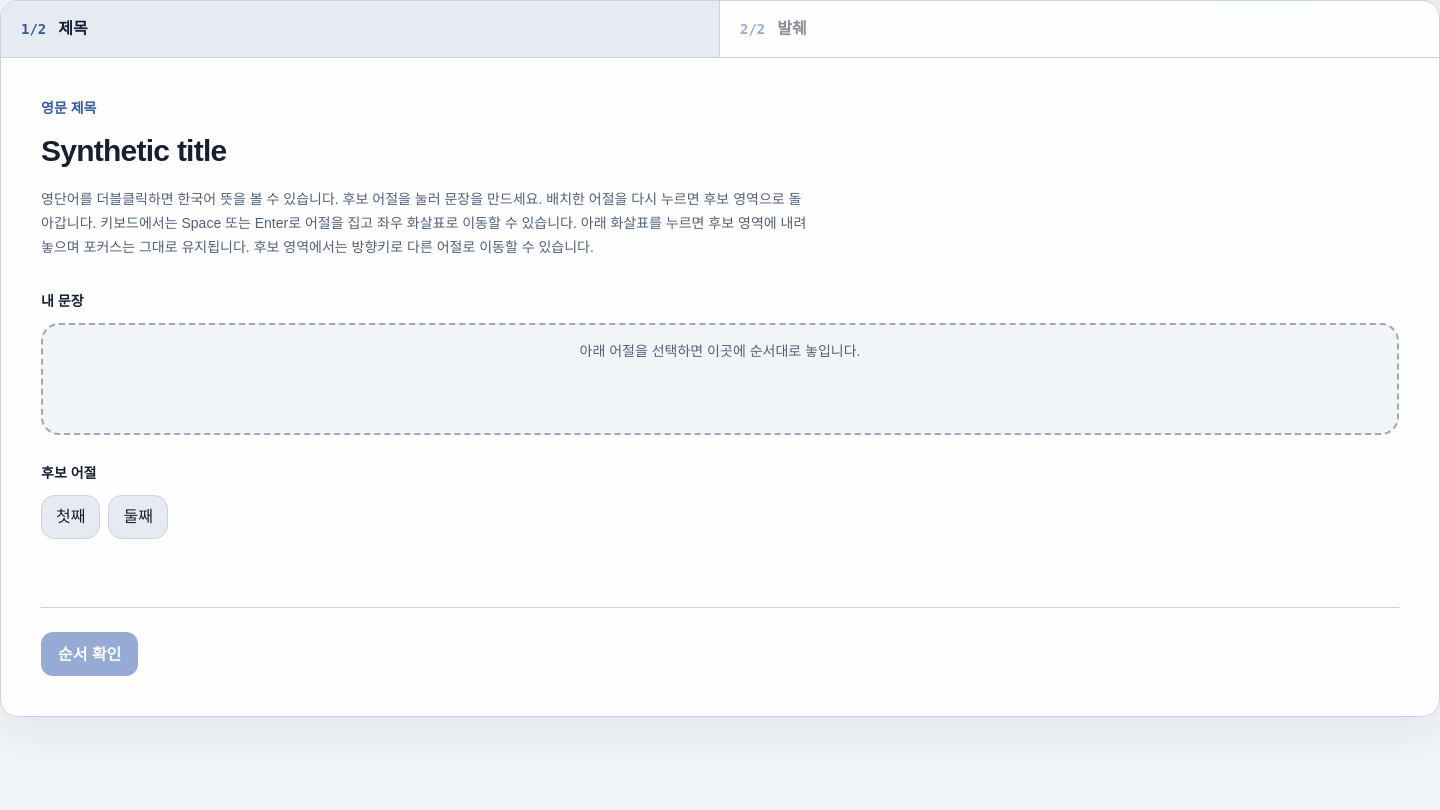
LessonPlayer › supports tap placement, keyboard reordering, and exact submission feedback
The width and height of the screenshot is (1440, 810).
Click the button with aria-label "첫째 어절을 내 문장으로 이동".
click(71, 517)  # box [41, 495, 100, 539]
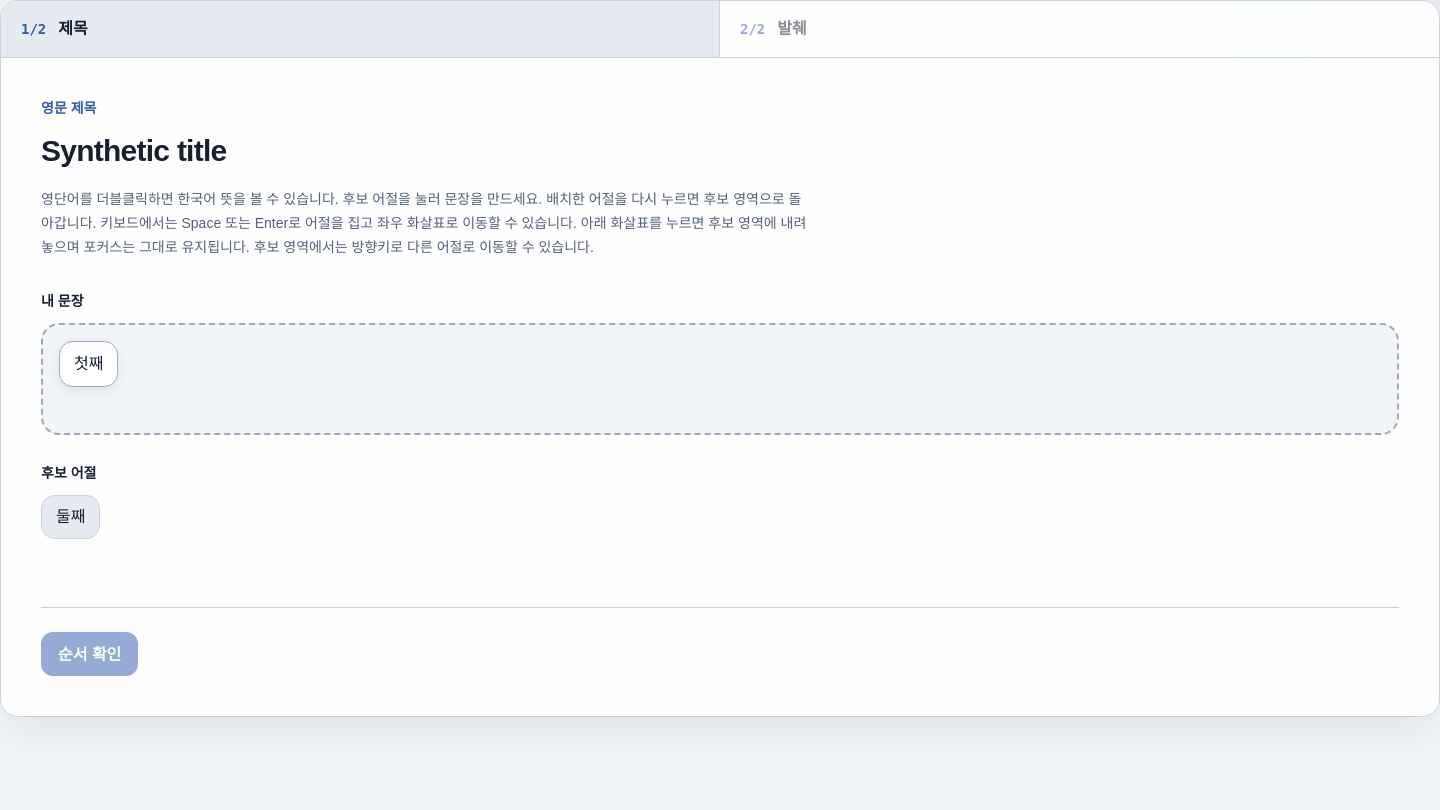
Click the button with aria-label "둘째 어절을 내 문장으로 이동".
click(71, 517)  # box [41, 495, 100, 539]
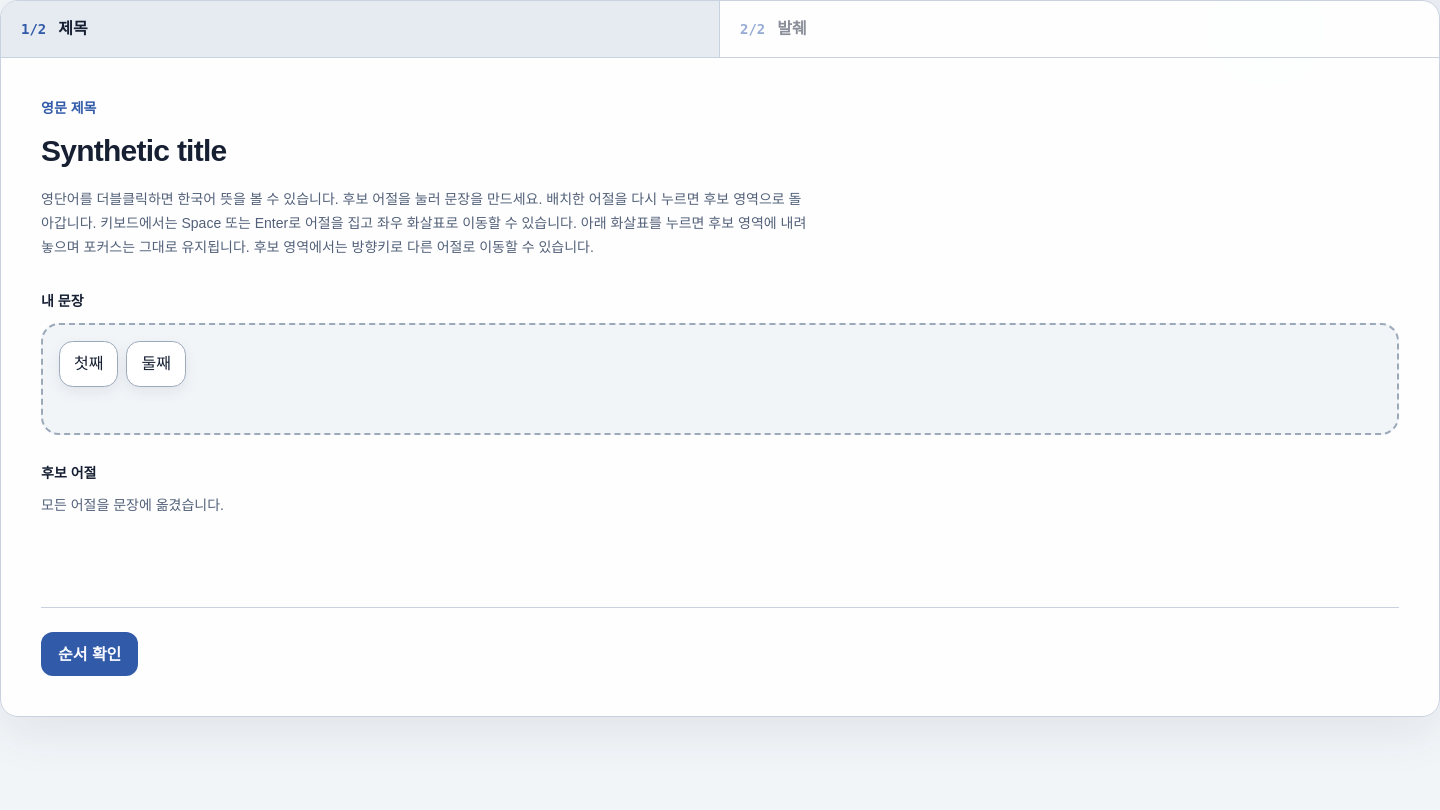
Press ArrowRight in the button with aria-label "1번째 어절 첫째", box [60, 342, 118, 386]
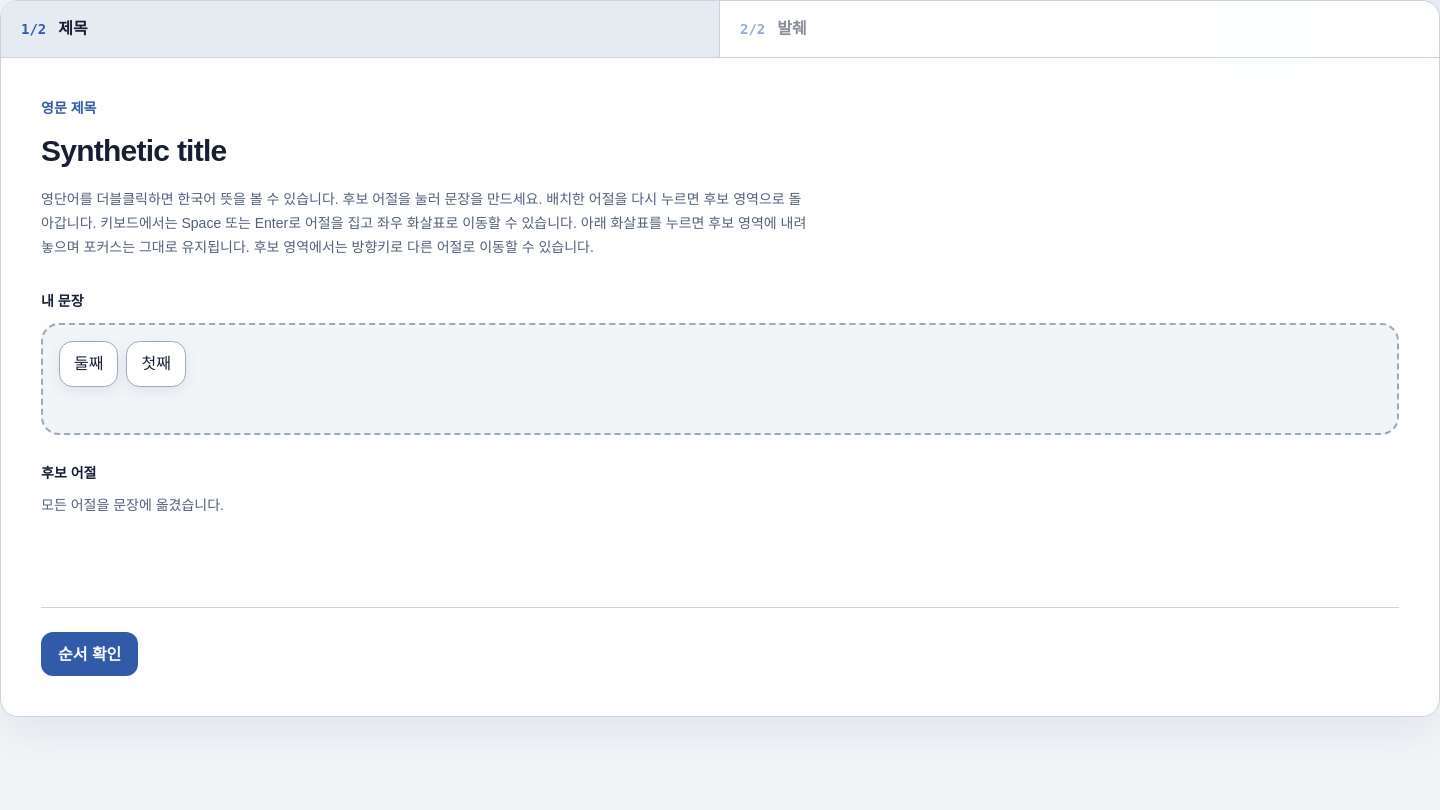
Click the button "순서 확인".
click(90, 654)  # box [41, 632, 138, 676]
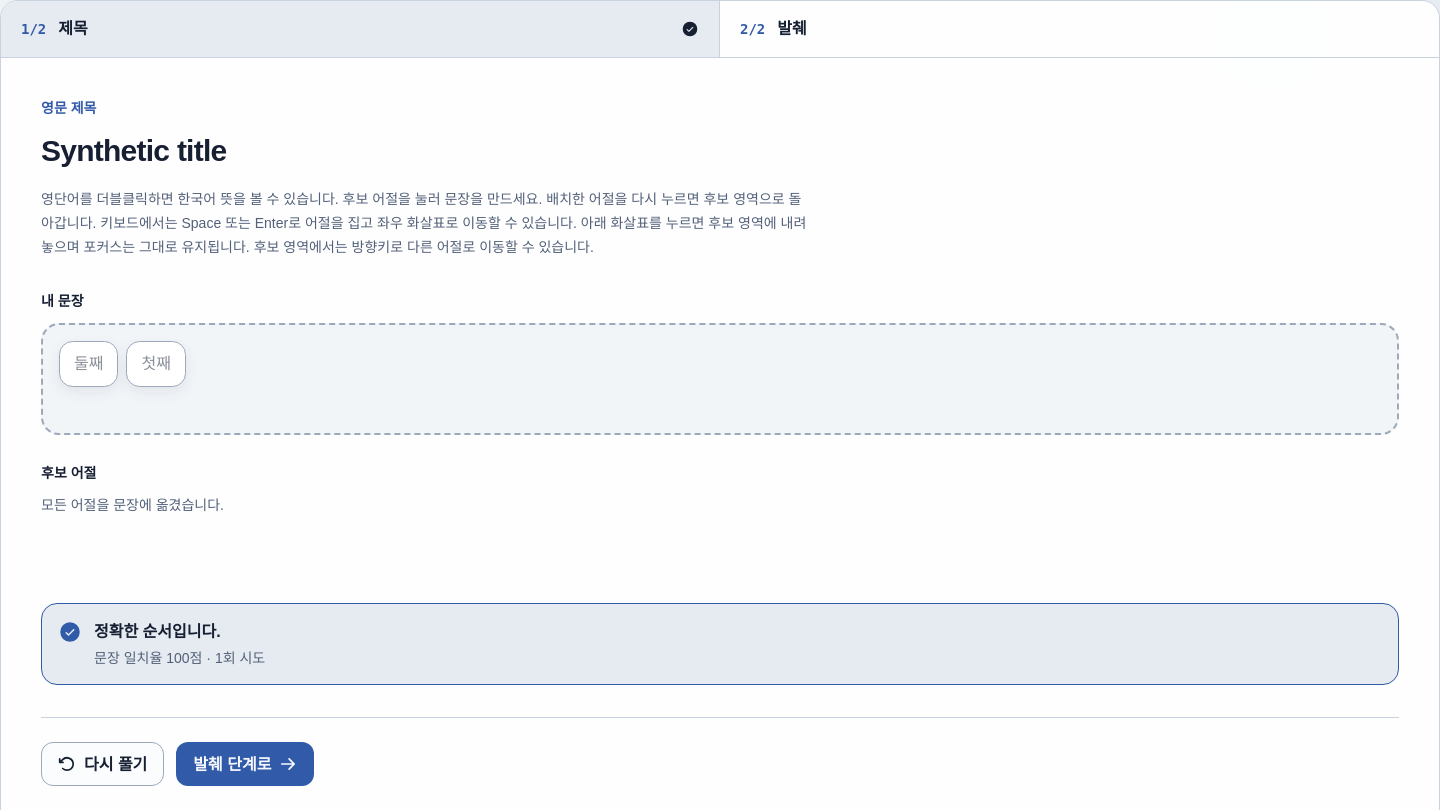
Check: the text "정확한 순서입니다." is shown, box [94, 623, 221, 640]
Check: the button "발췌 단계로" is enabled, box [176, 742, 314, 786]
